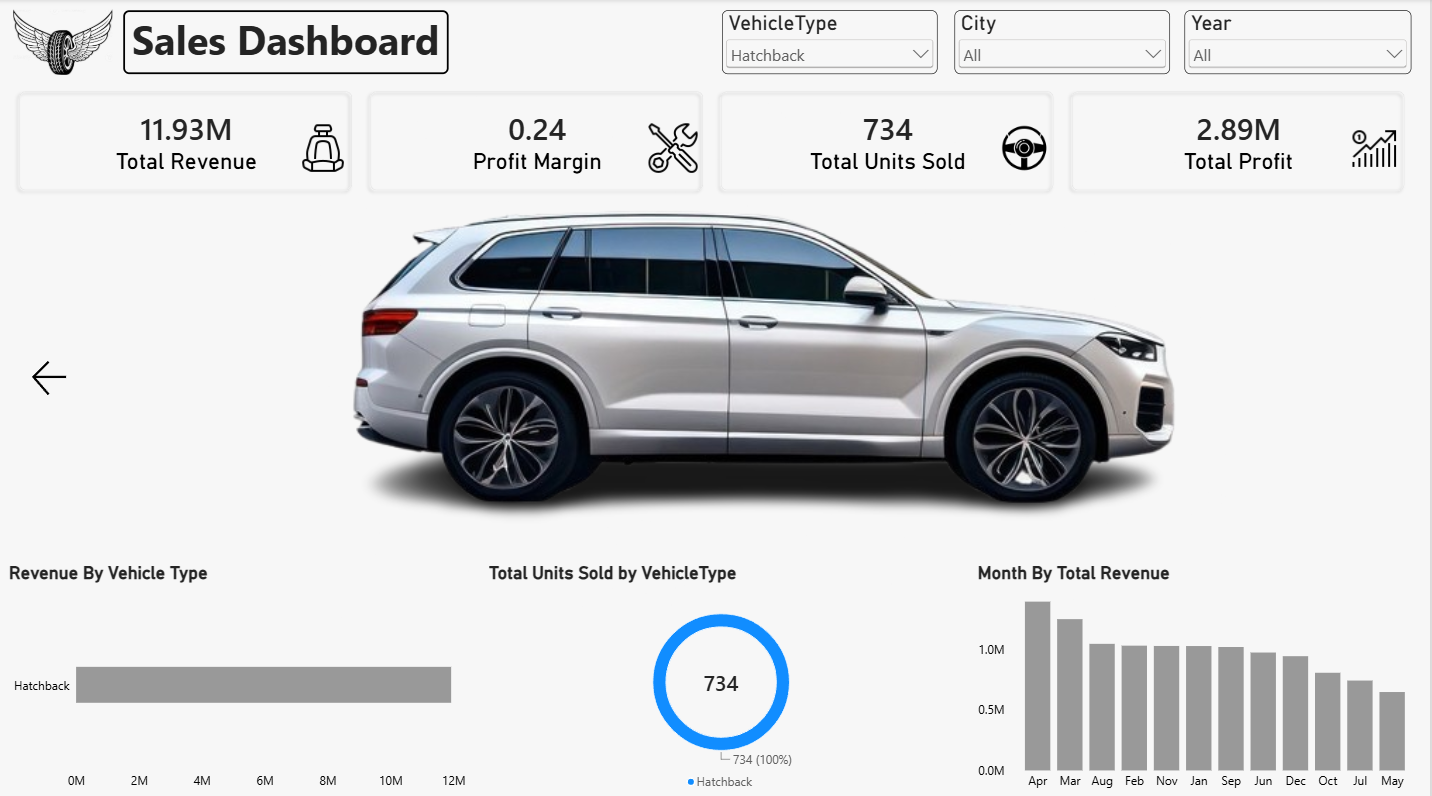

This screenshot's page, from the dashboard's own definition file:
{"tool":"powerbi","page":{"name":"Hatchback","canvas":[1920,1080],"ordinal":5},"visuals":[{"type":"image","box":[21.4,0,132.6,115.5],"z":0},{"type":"textbox","box":[168.9,15,436.2,85.5],"z":1},{"type":"cardVisual","fields":{"Data":["vehicle_sales_dashboard_dataset.Total Revenue","vehicle_sales_dashboard_dataset.Profit Margin","vehicle_sales_dashboard_dataset.Total Units Sold","vehicle_sales_dashboard_dataset.Total Profit"]},"box":[21.4,115.5,1873,149.7],"z":2},{"type":"barChart","title":"Revenue By Vehicle Type","fields":{"Category":["vehicle_sales_dashboard_dataset.VehicleType"],"Y":["Sum(vehicle_sales_dashboard_dataset.Revenue)"]},"box":[0,739.8,643.6,340],"z":3},{"type":"donutChart","fields":{"Category":["vehicle_sales_dashboard_dataset.VehicleType"],"Y":["vehicle_sales_dashboard_dataset.Total Units Sold"]},"box":[643.6,739.8,654.3,340],"z":4},{"type":"columnChart","title":"Month By Total Revenue","fields":{"Category":["vehicle_sales_dashboard_dataset.Month"],"Y":["vehicle_sales_dashboard_dataset.Total Revenue"]},"box":[1297.8,739.8,622.2,340],"z":5},{"type":"slicer","fields":{"Values":["vehicle_sales_dashboard_dataset.Year"]},"box":[1590.7,15,303.6,85.5],"z":6},{"type":"slicer","fields":{"Values":["vehicle_sales_dashboard_dataset.City"]},"box":[1282.9,15,288.6,85.5],"z":7},{"type":"actionButton","box":[20.6,477.5,100.9,61.7],"z":8},{"type":"slicer","fields":{"Values":["vehicle_sales_dashboard_dataset.VehicleType"]},"box":[971.5,14.4,288.6,85.5],"z":9},{"type":"image","box":[256.4,137.8,1522.7,706.4],"z":11}]}

Visuals, with their boxes in screenshot pixels (x1, y1, x2, y2), scaled from the page's 1920x1080 canvas onto the 1432x796 screenshot:
image: bbox(16, 0, 115, 85)
textbox: bbox(126, 11, 451, 74)
cardVisual - vehicle_sales_dashboard_dataset.Total Revenue x vehicle_sales_dashboard_dataset.Profit Margin: bbox(16, 85, 1413, 195)
"Revenue By Vehicle Type" barChart: bbox(0, 545, 480, 795)
donutChart - vehicle_sales_dashboard_dataset.VehicleType x vehicle_sales_dashboard_dataset.Total Units Sold: bbox(480, 545, 968, 795)
"Month By Total Revenue" columnChart: bbox(968, 545, 1431, 795)
slicer - vehicle_sales_dashboard_dataset.Year: bbox(1186, 11, 1413, 74)
slicer - vehicle_sales_dashboard_dataset.City: bbox(957, 11, 1172, 74)
actionButton: bbox(15, 352, 91, 397)
slicer - vehicle_sales_dashboard_dataset.VehicleType: bbox(725, 11, 940, 74)
image: bbox(191, 102, 1327, 622)
